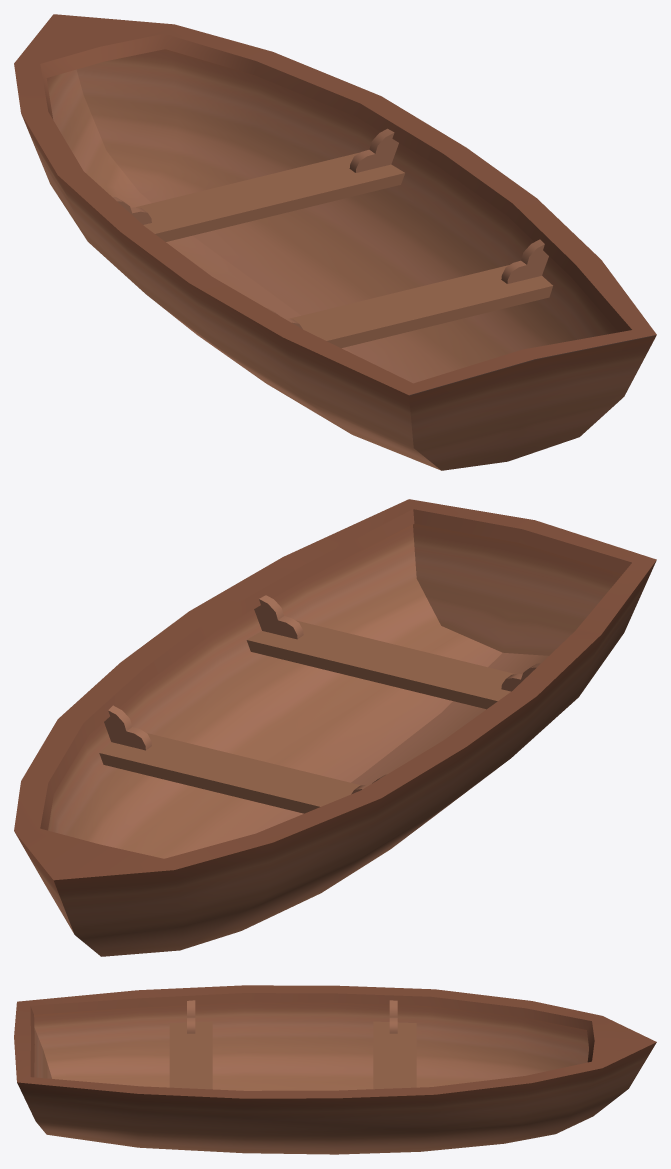
The model's file is Boat.glb.
3 renders of one model, top to bottom at view 1: azimuth 30°, elevation 25°; view 2: azimuth 150°, elevation 25°; view 3: azimuth 270°, elevation 25°, orthographic. The views are drawn at different scales.
Parts seen in each view (by area): view 1: Boat-ver1; view 2: Boat-ver1; view 3: Boat-ver1.
Boxes of the visible parts, bbox=[...] form: Boat-ver1: bbox=[14, 14, 656, 470]; Boat-ver1: bbox=[14, 499, 656, 956]; Boat-ver1: bbox=[14, 985, 656, 1154].
Size of the model in its own units: 1.34 by 0.5297 by 3.2.
1 material, 1 textured.
